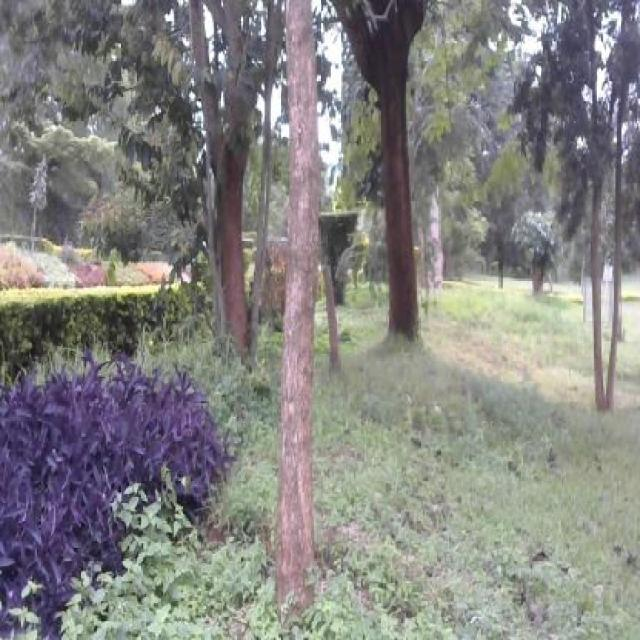tree trunk: (282, 12, 326, 598), (368, 13, 429, 350), (198, 43, 256, 375), (582, 36, 628, 427)
